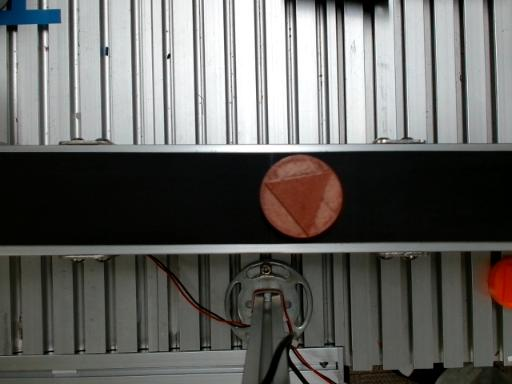Brown_Waper: (260, 154, 342, 238)
Not_Square: (262, 170, 333, 238)
